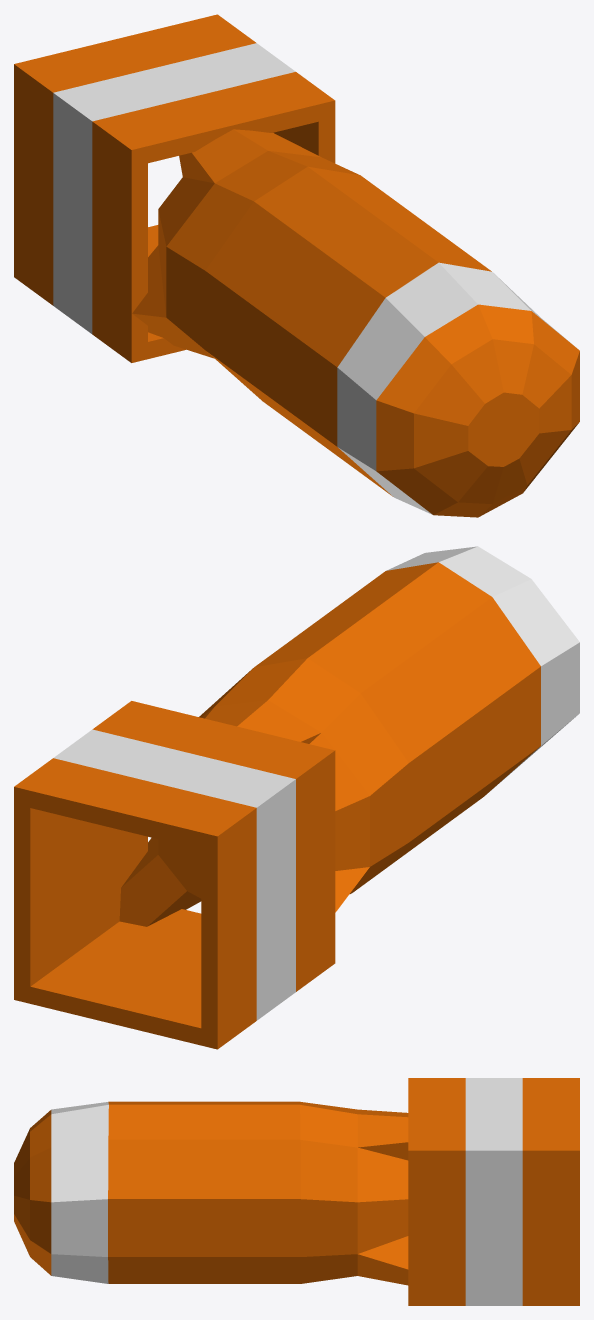
Rendered from bomb_projectile.fbx.
The picture shows the model from 3 angles, top to bottom: view 1: azimuth 30°, elevation 25°; view 2: azimuth 150°, elevation 25°; view 3: azimuth 270°, elevation 25°; orthographic projection. The views are drawn at different scales.
Parts seen in each view (by area): view 1: bomb_projectile; view 2: bomb_projectile; view 3: bomb_projectile.
Part boxes in pixels (x1,y1,x2,y2): bomb_projectile: (14,14,579,517); bomb_projectile: (14,546,579,1049); bomb_projectile: (14,1078,579,1305).
Bounding box in the file's own units: 200 × 224 × 660.
